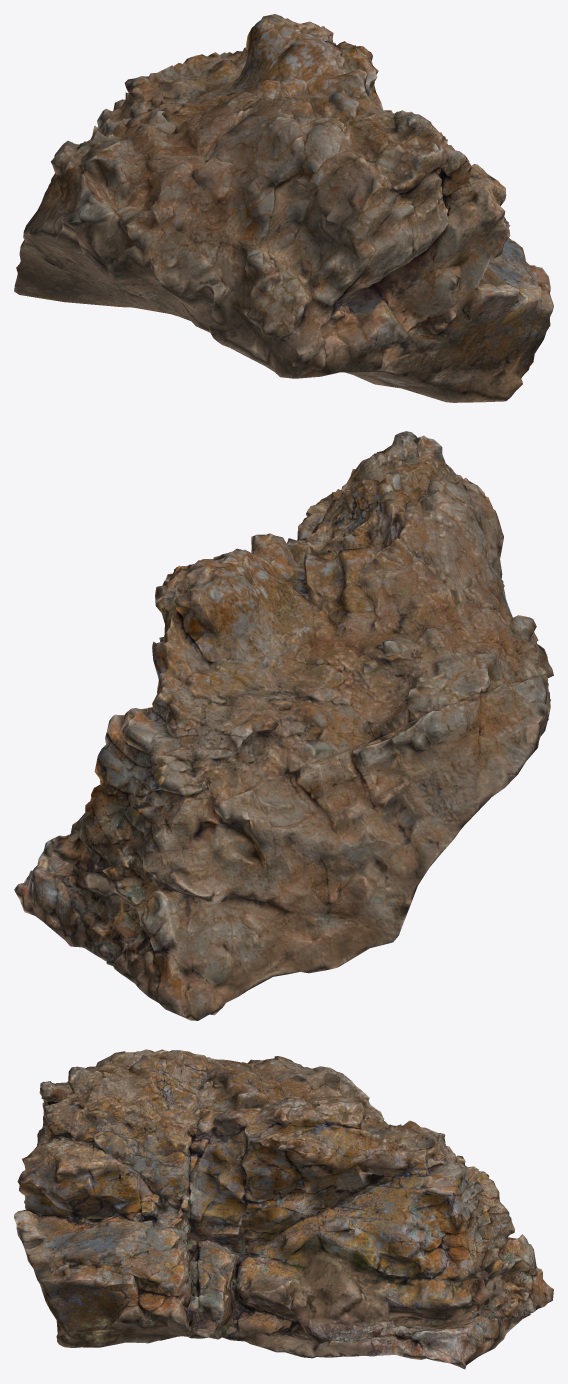
Rendered from boulder_01_LOD2.glb.
3 renders of one model, top to bottom at view 1: azimuth 30°, elevation 25°; view 2: azimuth 150°, elevation 25°; view 3: azimuth 270°, elevation 25°, orthographic. The views are drawn at different scales.
Parts seen in each view (by area): view 1: boulder_01_LOD2.001; view 2: boulder_01_LOD2.001; view 3: boulder_01_LOD2.001.
Boxes of the visible parts, x1,y1,x2,y2 form: boulder_01_LOD2.001: (14,14,553,402); boulder_01_LOD2.001: (14,431,553,1020); boulder_01_LOD2.001: (14,1049,553,1369).
Size of the model in its own units: 1.27 by 1 by 1.83.
1 material, 1 textured.
